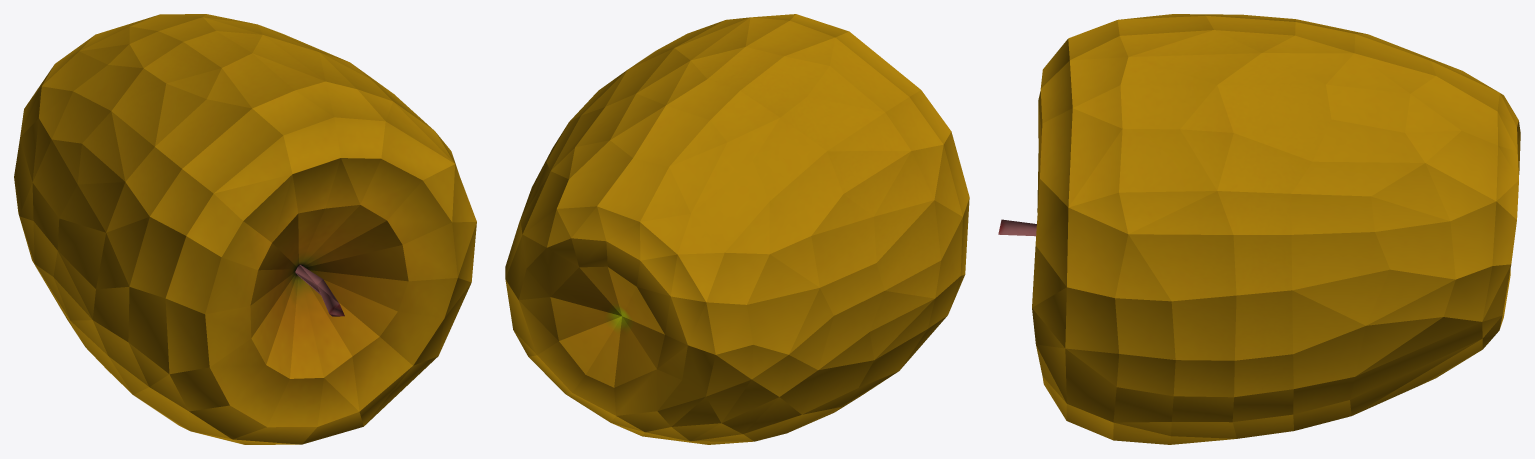
The model's file is MeshAppleB3_0.obj.
The picture shows the model from 3 angles, left to right: view 1: azimuth 30°, elevation 25°; view 2: azimuth 150°, elevation 25°; view 3: azimuth 270°, elevation 25°; orthographic projection. The views are drawn at different scales.
Visible parts, largest first — view 1: AppleB3; view 2: AppleB3; view 3: AppleB3.
Boxes of the visible parts, box(x1,y1,x2,y2) form: AppleB3: box(14, 14, 476, 444); AppleB3: box(505, 14, 969, 444); AppleB3: box(998, 14, 1520, 444).
Size of the model in its own units: 0.1099 by 0.1081 by 0.1288.
